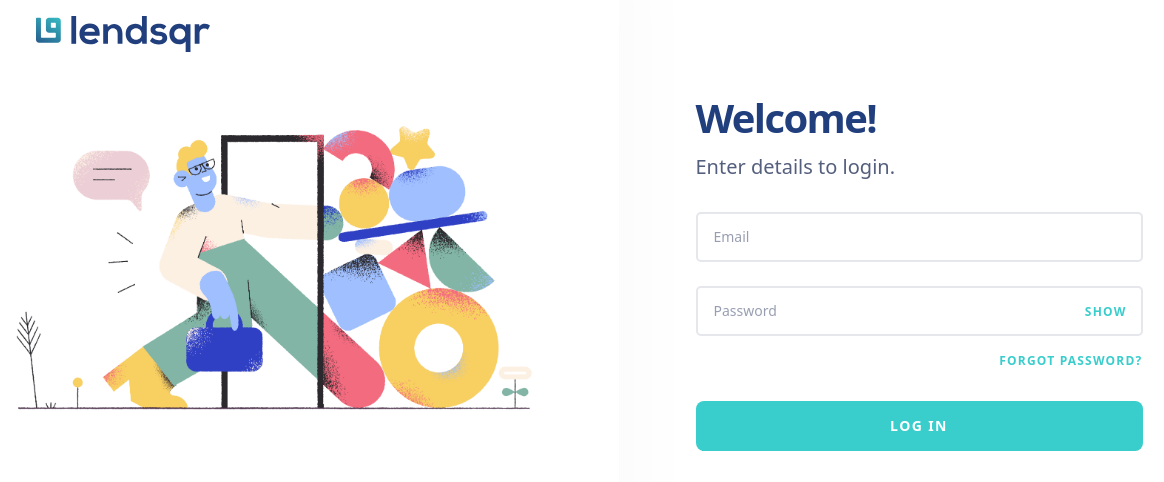
Test case: Login › shows an error when the email is not validly formatted
Type "not-an-email" into the field labelled "Email" at x=919, y=236, box [696,212,1142,262]
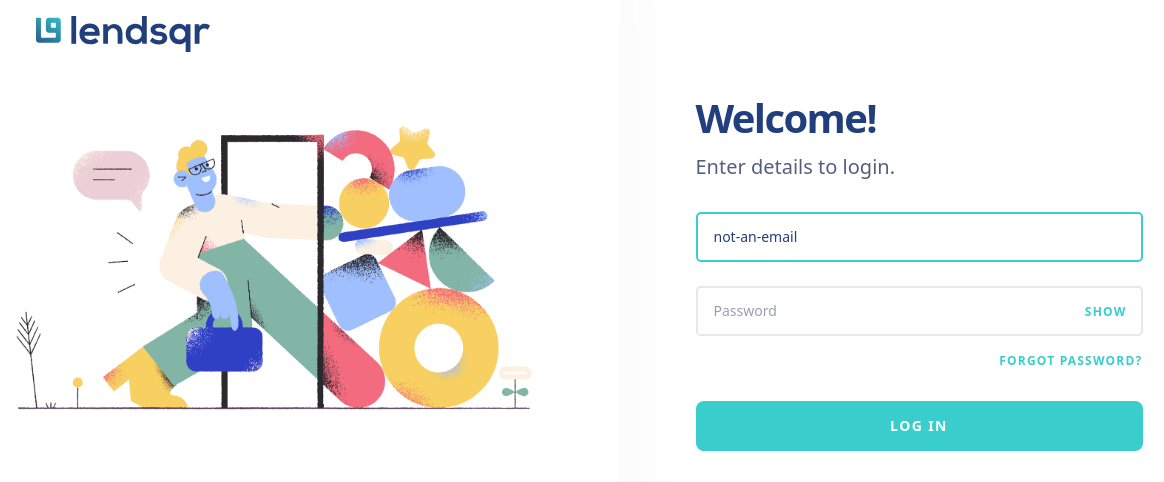
Type "password123" into the password field labelled "Password" at x=919, y=310, box [696,286,1142,336]
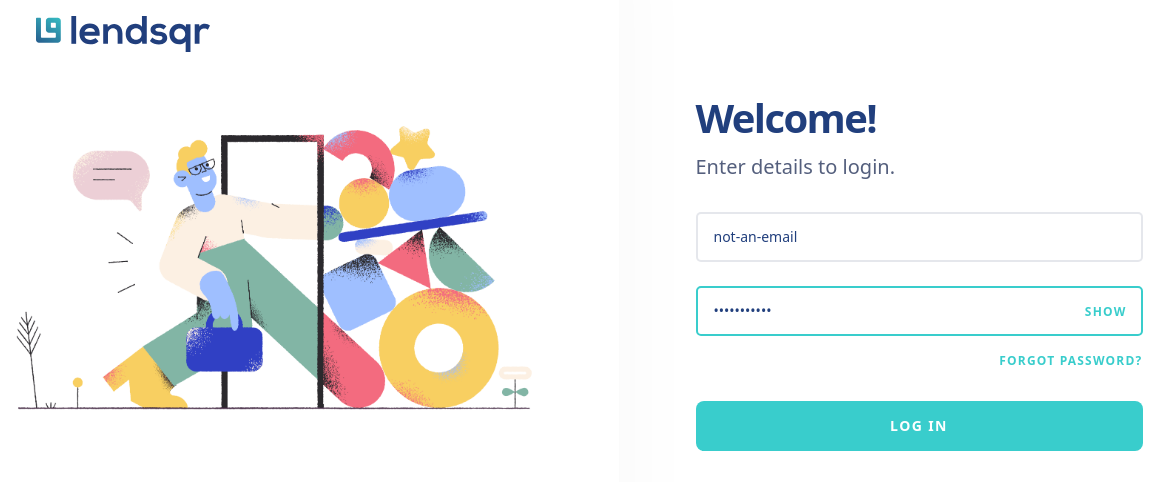
Click the button "LOG IN" at x=919, y=426, box [696,400,1142,450]
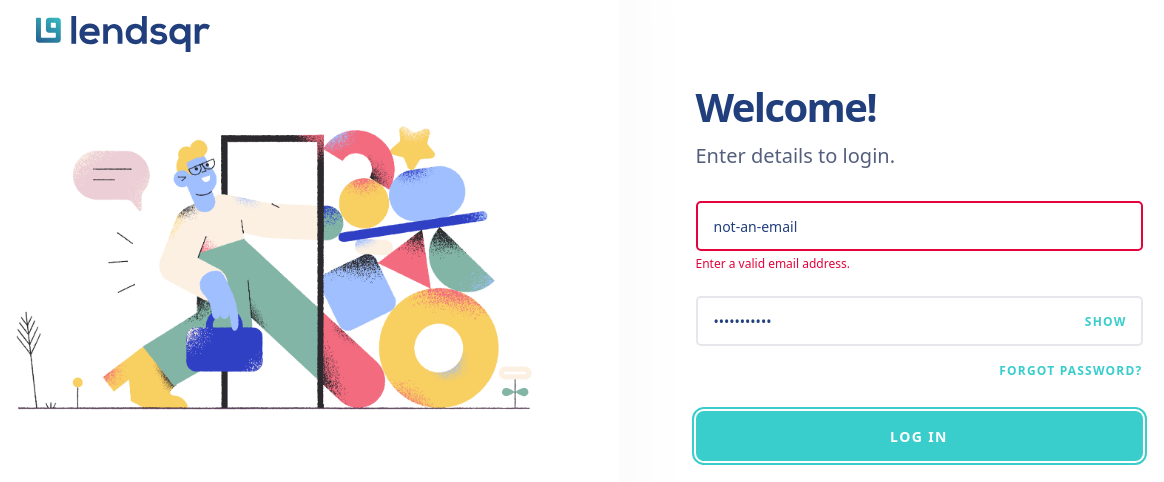
Result: the text "Enter a valid email address." is shown at [696,255,850,272]
